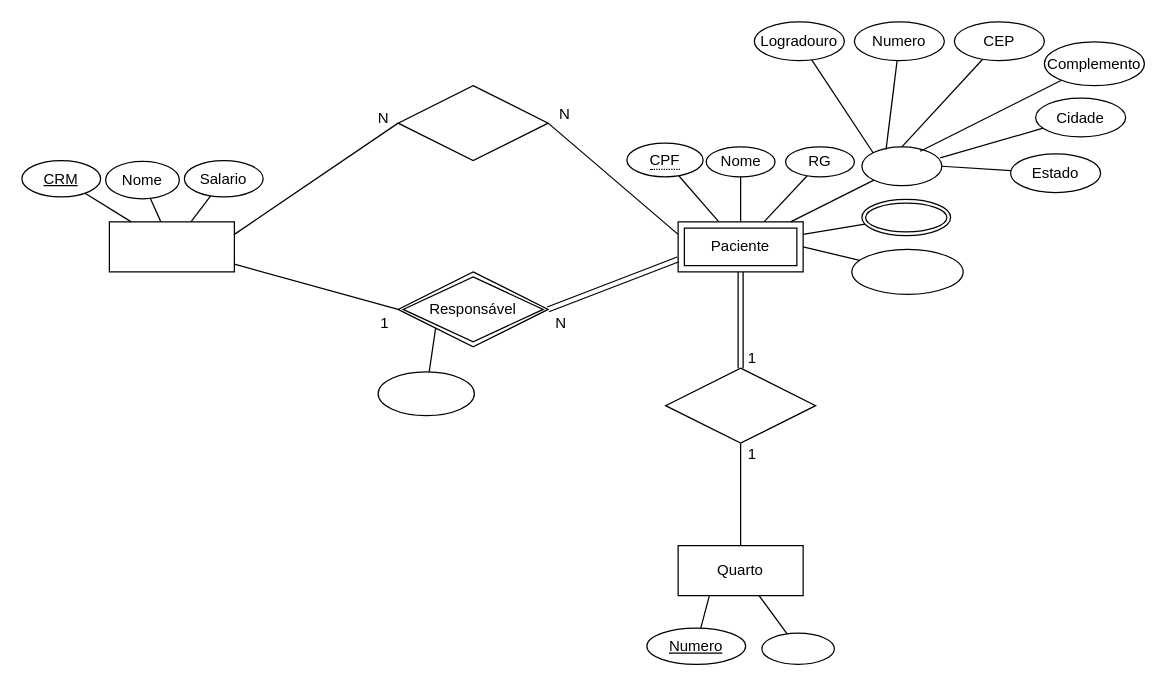
Image size: 1166x686. Some labels were removed from this diagram. Each missing label, with the box of its shape:
Andar: (761, 632, 834, 664)
Data Nascimento: (851, 248, 963, 294)
Endereço: (861, 146, 942, 186)
Fica: (664, 367, 816, 443)
Horario Visita: (377, 371, 474, 416)
Medico: (108, 221, 234, 272)
Participa Tratamento: (397, 84, 548, 161)
Telefones: (861, 198, 951, 236)
